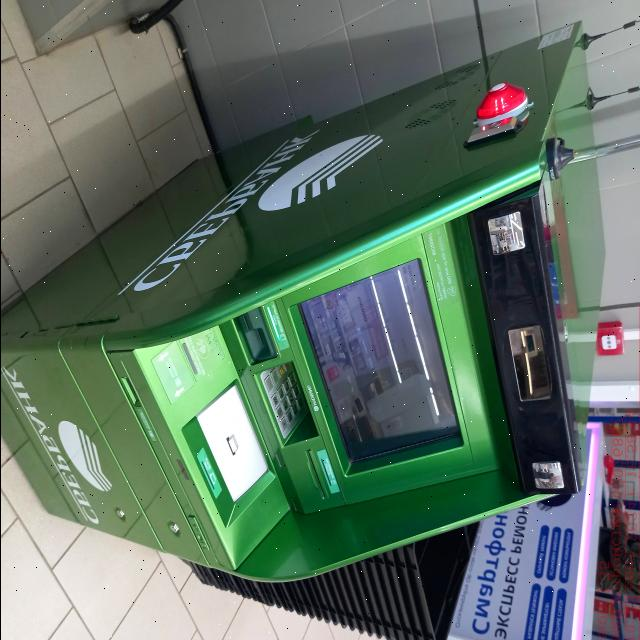bank: (0, 19, 609, 584)
